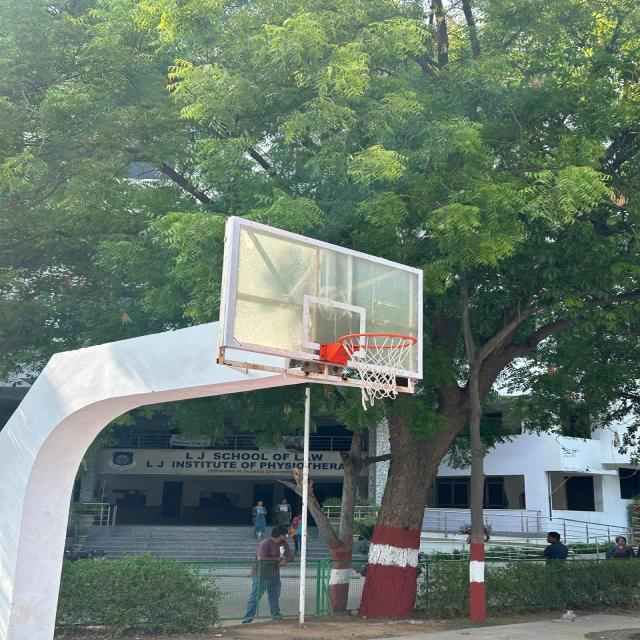hoop: (312, 325, 437, 423)
